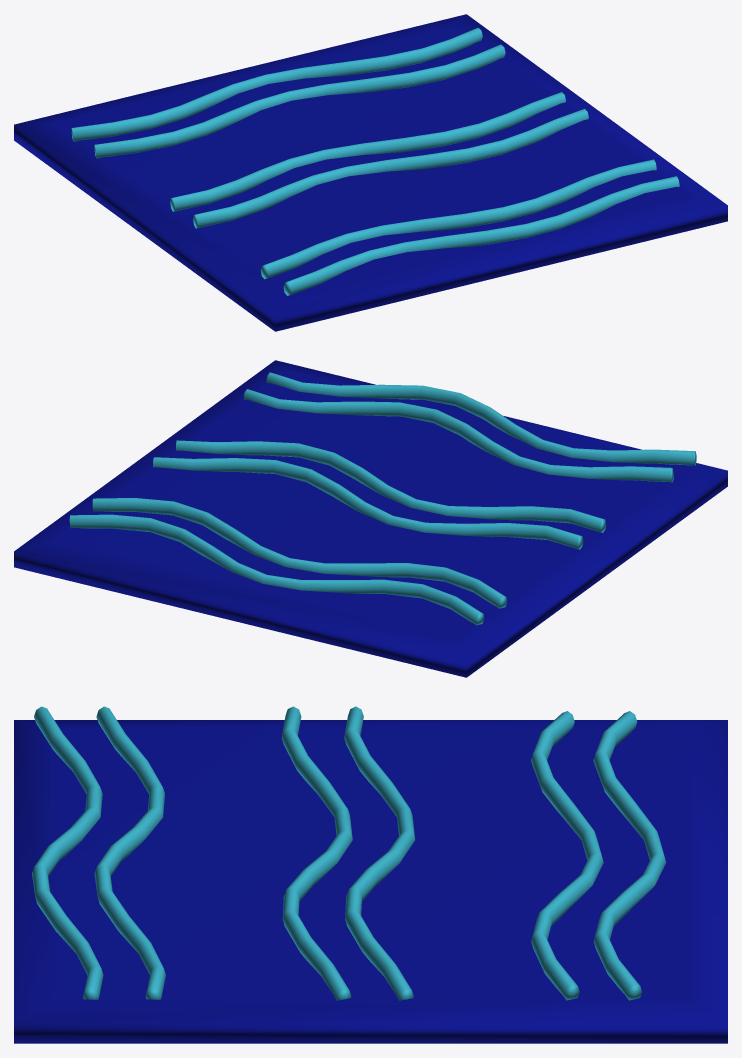
File: Water.glb
The picture shows the model from 3 angles, top to bottom: view 1: azimuth 30°, elevation 25°; view 2: azimuth 150°, elevation 25°; view 3: azimuth 270°, elevation 25°; orthographic projection. The views are drawn at different scales.
Visible parts, largest first — view 1: Body, FarWaves, NearWaves; view 2: Body, FarWaves, NearWaves; view 3: Body, NearWaves, FarWaves.
Part boxes in pixels (x1=…): Body: x1=14, y1=14, x2=727, y2=331; FarWaves: x1=94, y1=44, x2=679, y2=295; NearWaves: x1=71, y1=27, x2=656, y2=279; Body: x1=14, y1=360, x2=727, y2=677; FarWaves: x1=92, y1=372, x2=696, y2=608; NearWaves: x1=69, y1=389, x2=673, y2=625; Body: x1=14, y1=720, x2=727, y2=1043; NearWaves: x1=94, y1=706, x2=666, y2=1000; FarWaves: x1=32, y1=706, x2=603, y2=1000.
Size of the model in its own units: 1.12 by 0.1036 by 1.12.
Materials: 1 (1 with a texture image).
